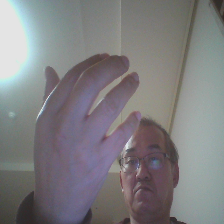hand: (32, 50, 143, 223)
